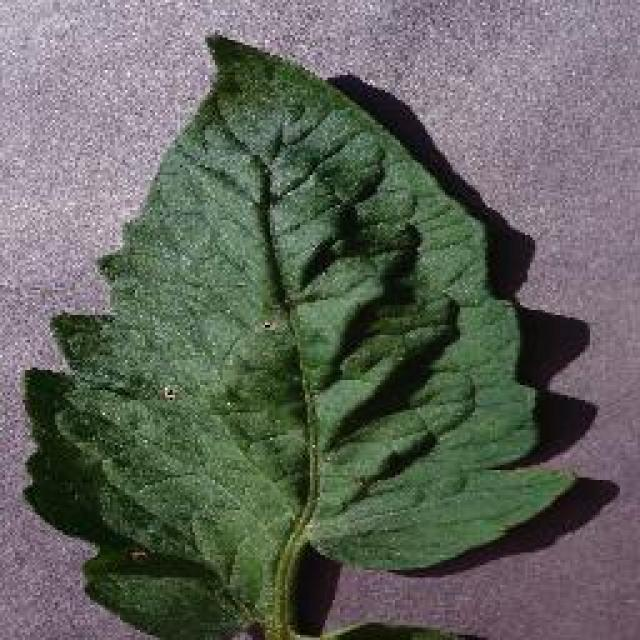Tomato Septoria spot leaf: (22, 35, 580, 640)
